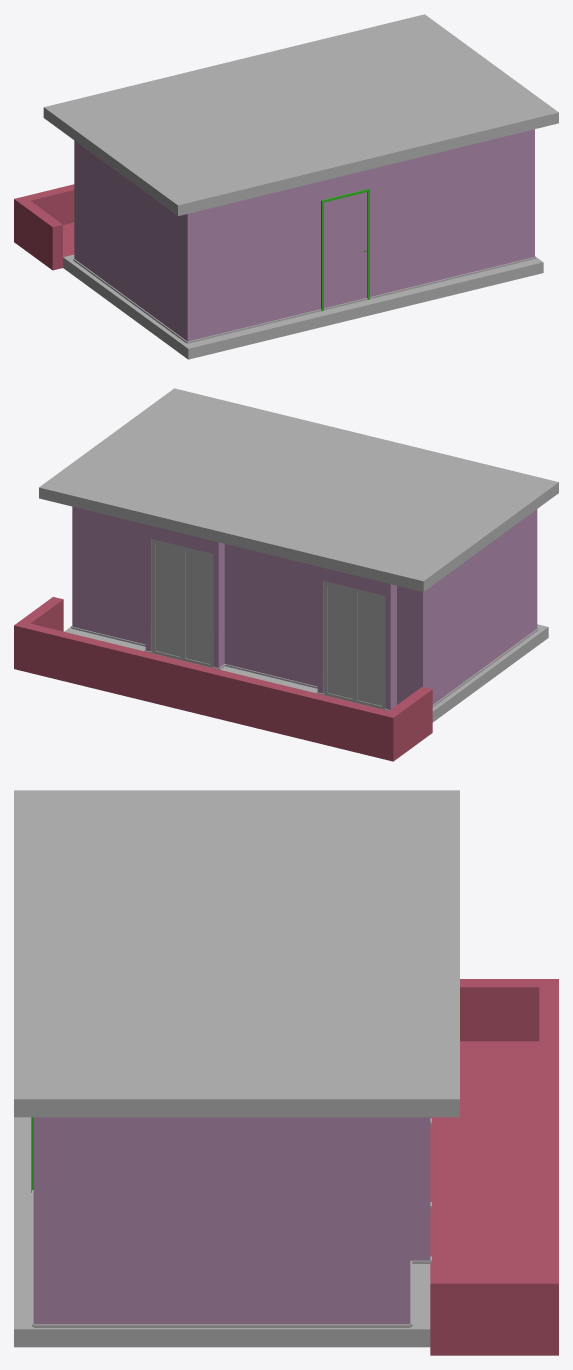
The model's file is FloorPlan326.fbx.
3 views of the same model, one above another, from view 1: azimuth 30°, elevation 25°; view 2: azimuth 150°, elevation 25°; view 3: azimuth 270°, elevation 25° (orthographic). The views are drawn at different scales.
Parts seen in each view (by area): view 1: StandardWallSize.021, Ceiling.021, Floor.020, StandardDoorFrame1.019; view 2: Ceiling.021, StandardWallSize.021, Floor.020, Doors; view 3: Ceiling.021, StandardWallSize.021, Floor.020.
Boxes of the visible parts, bbox=[...] form: StandardWallSize.021: bbox=[73, 129, 535, 343]; Ceiling.021: bbox=[43, 14, 558, 216]; Floor.020: bbox=[14, 184, 543, 359]; StandardDoorFrame1.019: bbox=[321, 189, 369, 310]; Ceiling.021: bbox=[39, 388, 558, 592]; StandardWallSize.021: bbox=[71, 506, 538, 710]; Floor.020: bbox=[14, 597, 548, 761]; Doors: bbox=[151, 539, 385, 709]; Ceiling.021: bbox=[14, 790, 459, 1117]; StandardWallSize.021: bbox=[32, 1117, 431, 1327]; Floor.020: bbox=[14, 979, 558, 1355].
Bounding box in the file's own units: 738 × 290 × 550.
